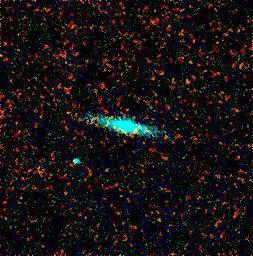star: (27, 34, 57, 64)
